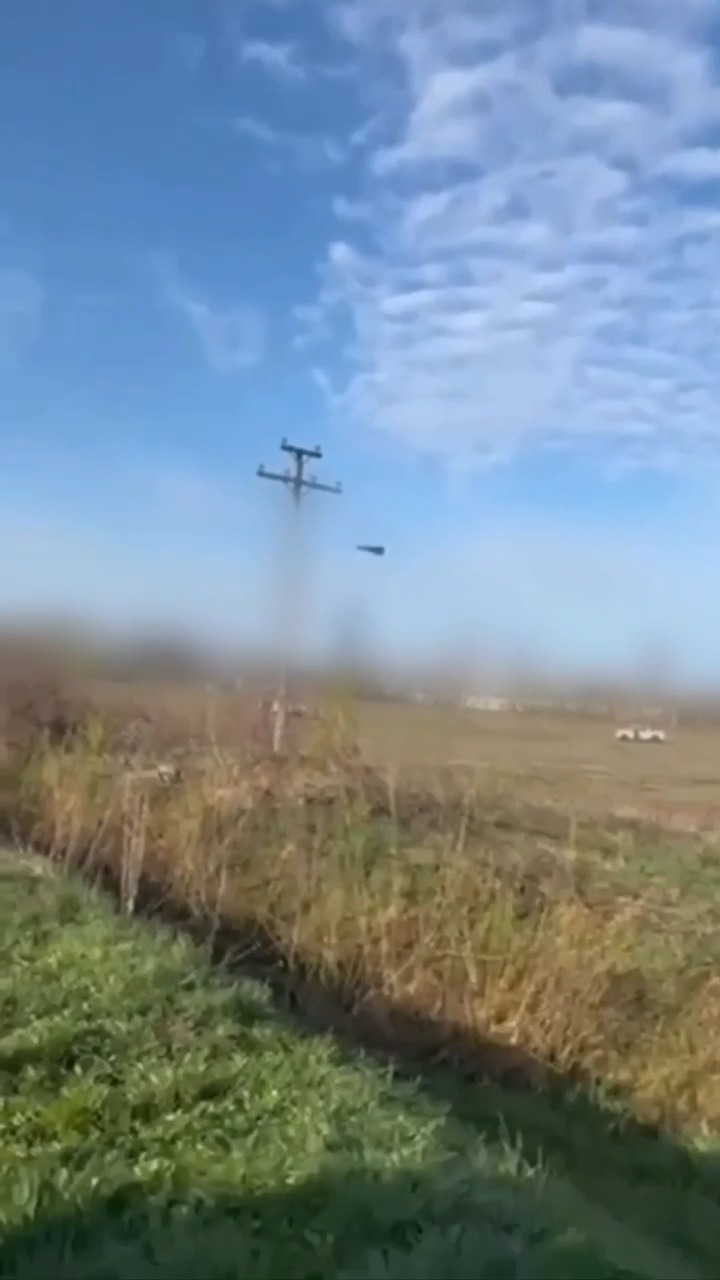shahed: (351, 539, 395, 559)
